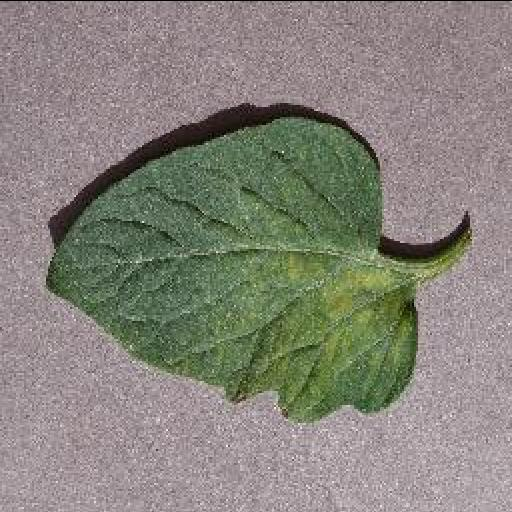disease_tomato: (46, 114, 416, 422)
